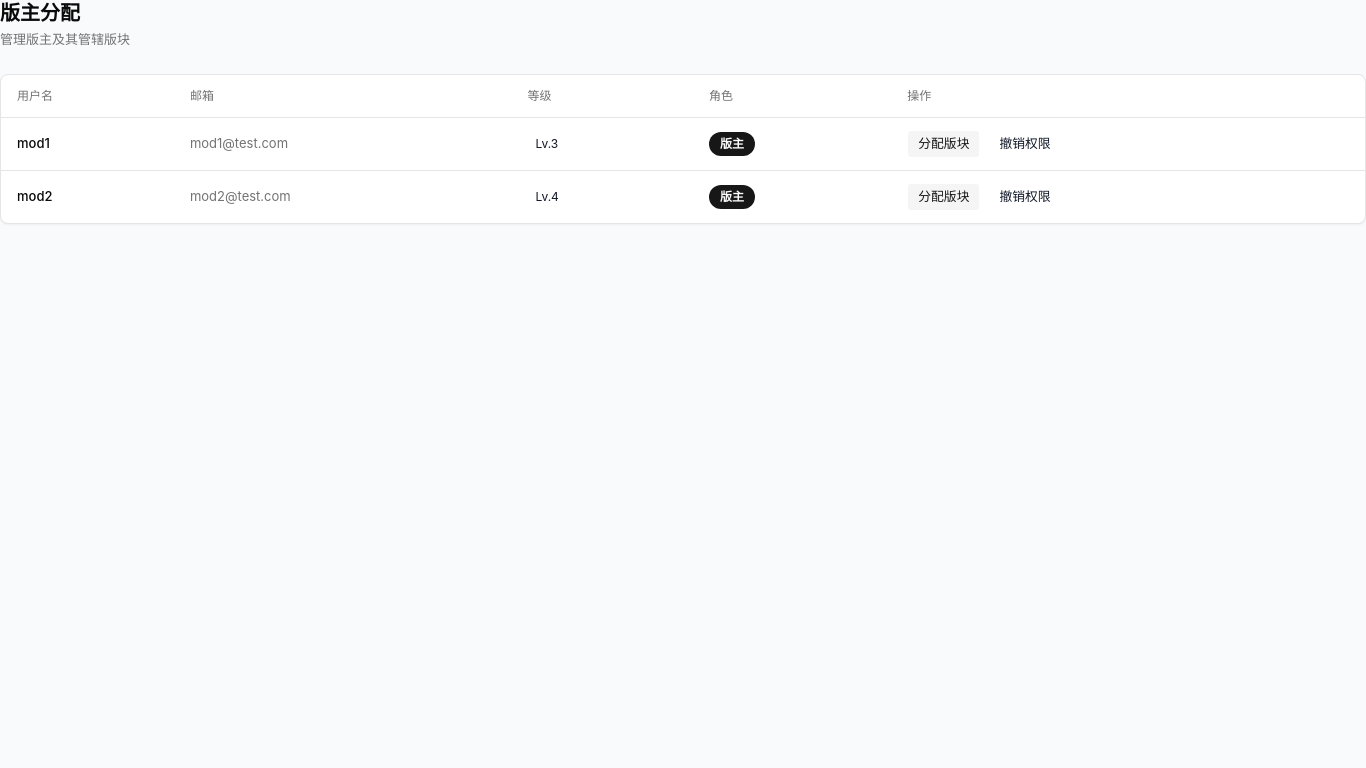
ModeratorAssignmentPage › closes modal when clicking cancel
Check: the text "mod1" is shown, box [1, 117, 174, 170]
What coordinates should you click on to do the following:
click the button "分配版块" in the row of "mod1@test.com"
I would click on:
 (944, 144)
Its box is [907, 130, 980, 158].
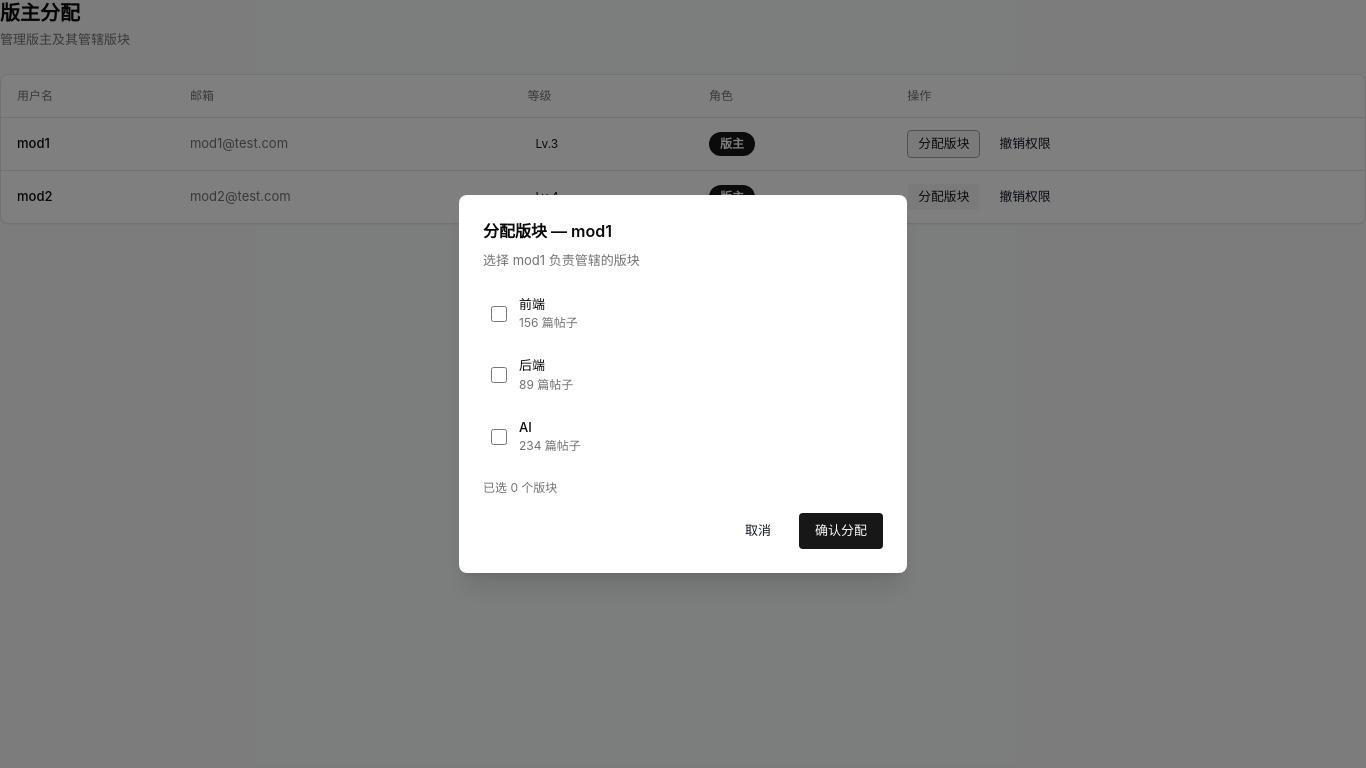
Check: the heading "分配版块 — mod1" is shown, box [483, 221, 612, 241]
What coordinates should you click on to do the following:
click the button "取消"
I would click on:
 (758, 531)
Its box is [729, 513, 787, 549].
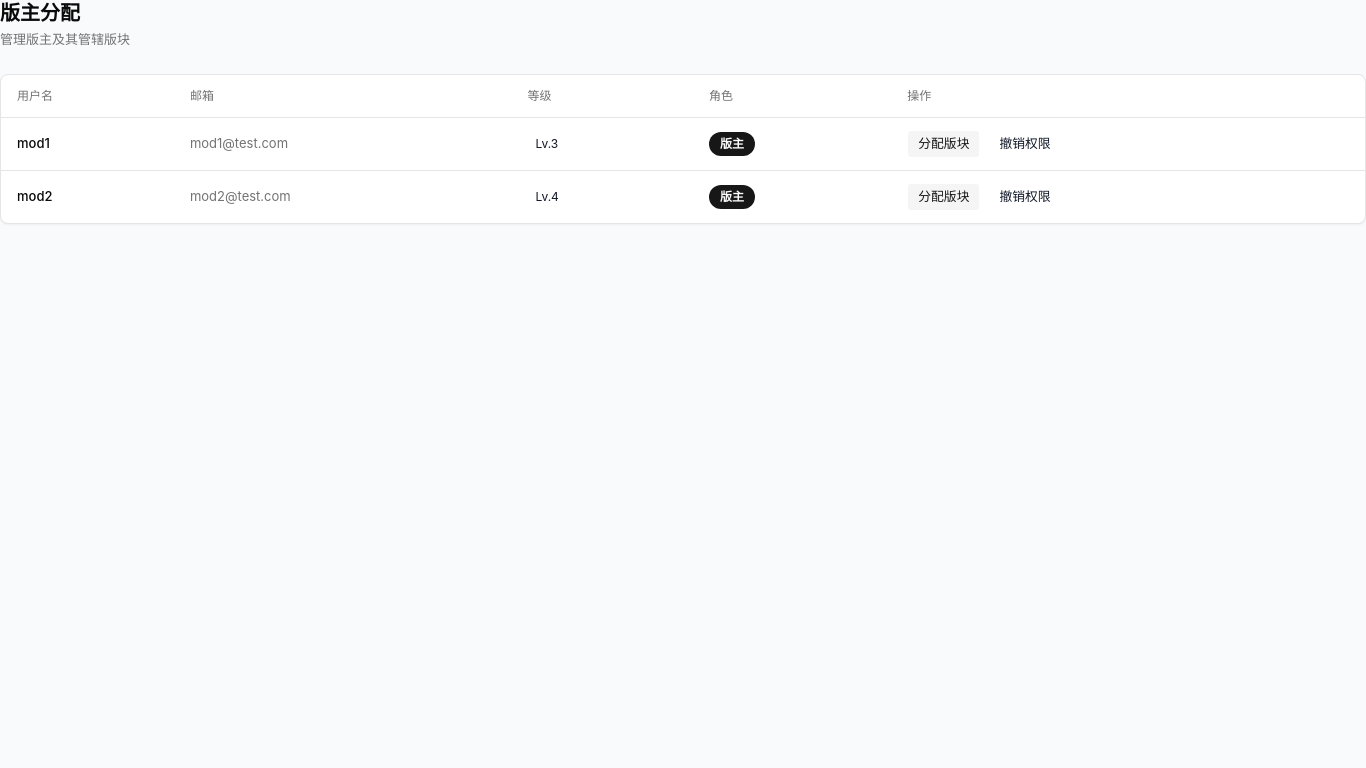
Check: the heading "分配版块 — mod1" is gone
